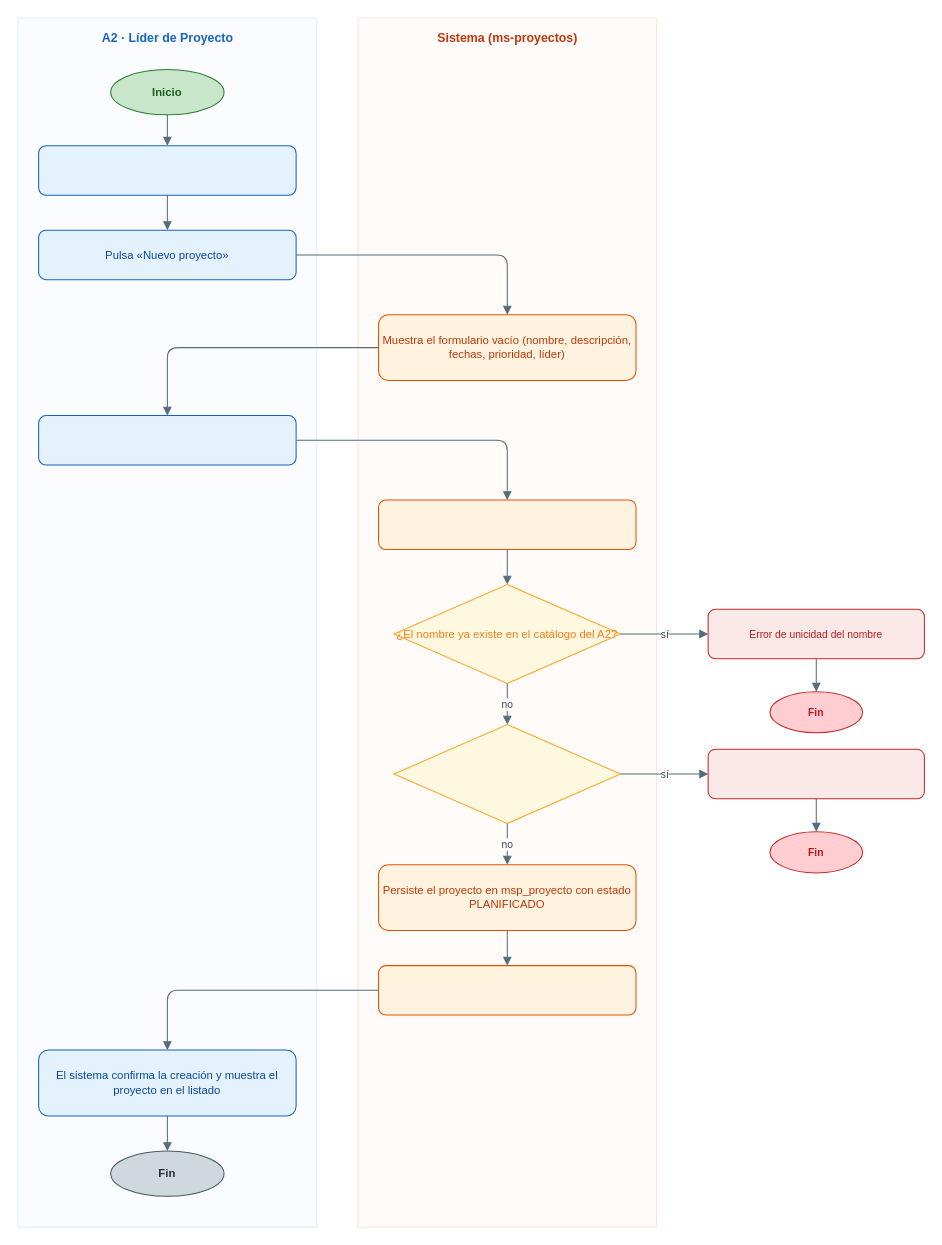
This 942x1245 diagram has some shape labels left out. Each missing label, with the centre of its shape:
Accede al módulo «Proyectos»: the point at 167,170
Completa los datos y pulsa «Guardar»: the point at 167,440
Error de validación de fechas: the point at 815,773
Recibe POST /api/proyectos: the point at 506,524
Registra la creación en msp_auditoria_proyecto: the point at 506,990
¿fecha_fin < fecha_inicio?: the point at 507,773
